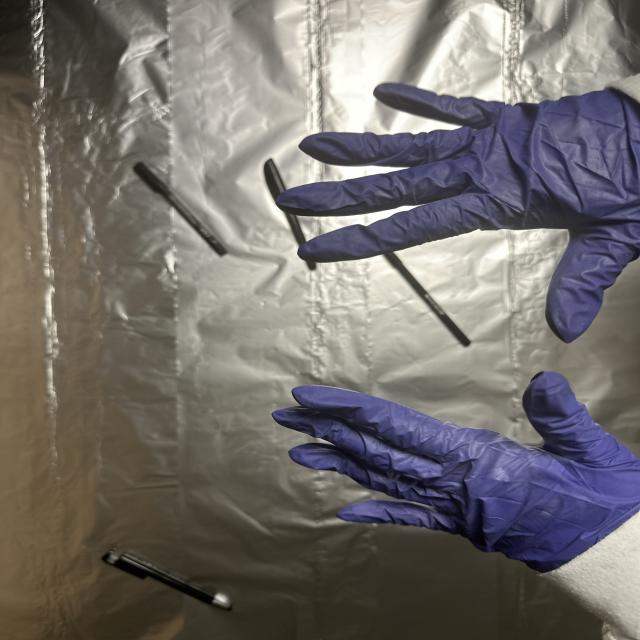gloves_contaminated: (277, 76, 640, 342), (273, 372, 640, 573)
